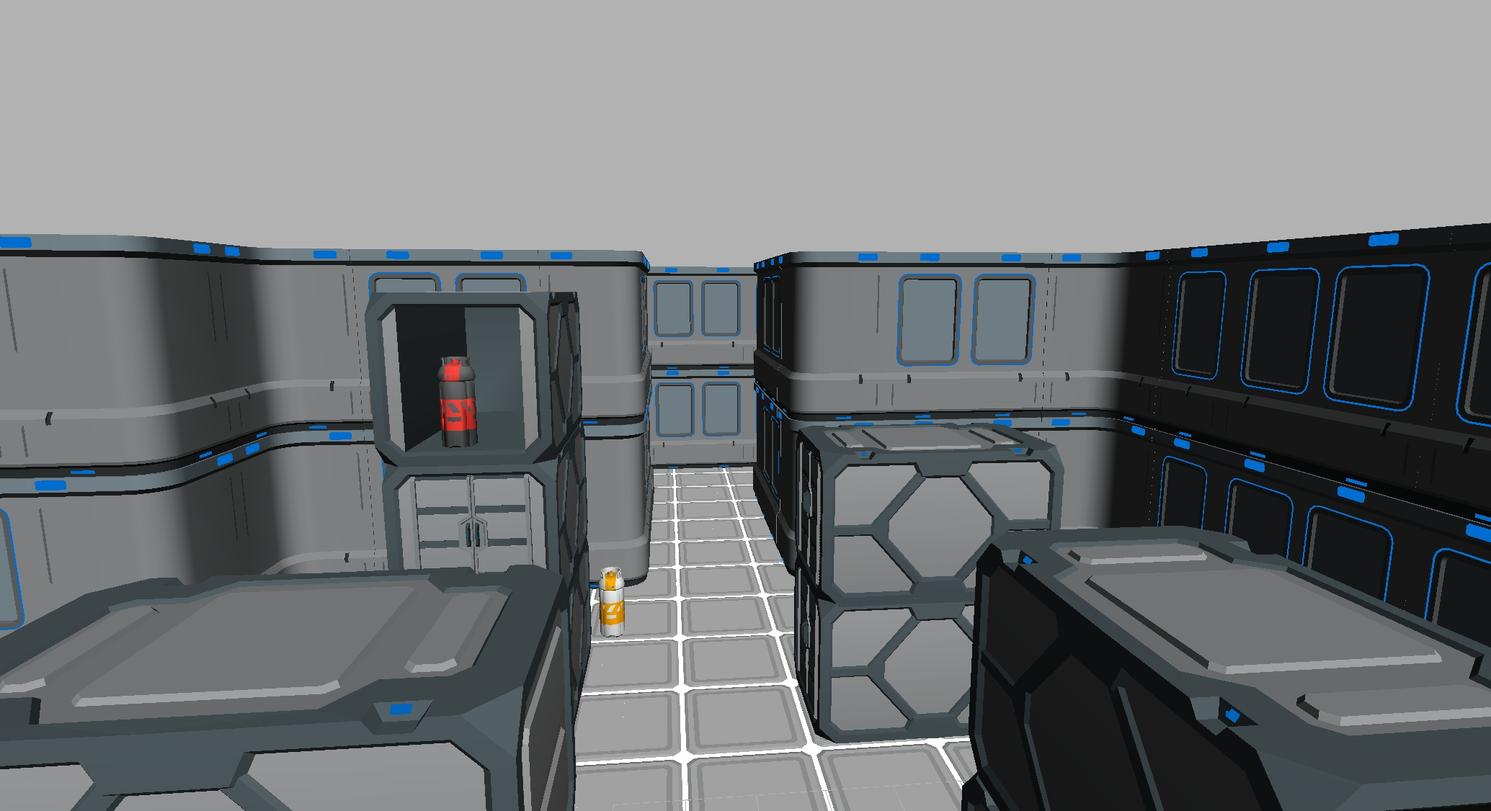red_barrel: (440, 357, 477, 447)
yellow_barrel: (598, 567, 625, 636)
